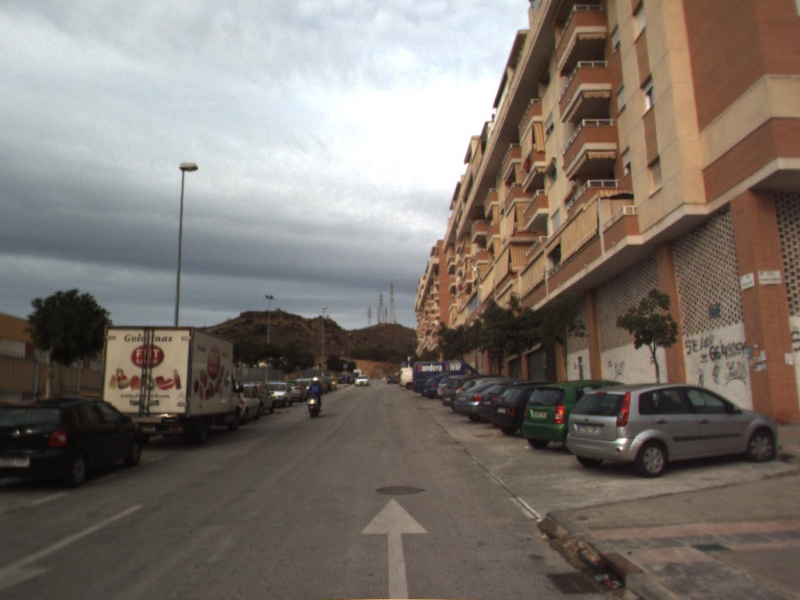STRAIGHT: (358, 495, 431, 600)
